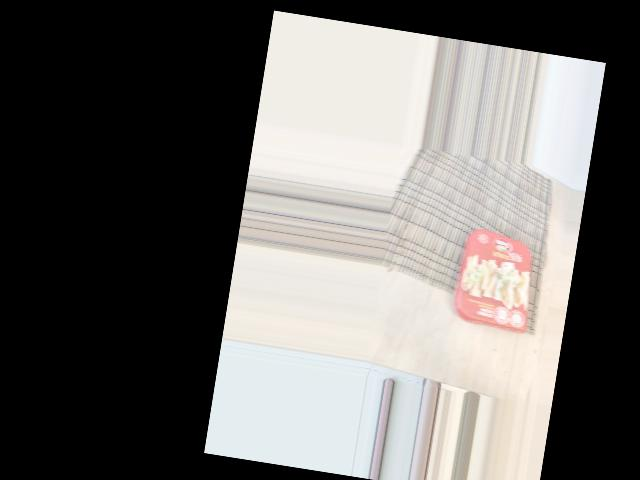cheese: (450, 224, 547, 348)
